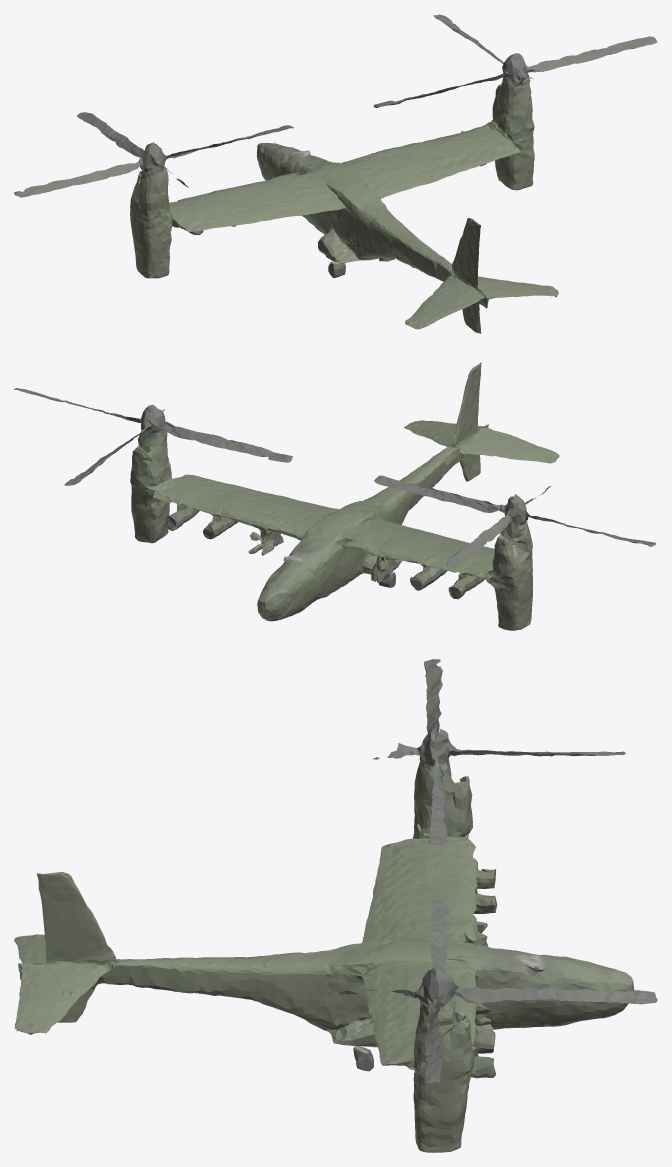
3 views of the same model, one above another, from view 1: azimuth 30°, elevation 25°; view 2: azimuth 150°, elevation 25°; view 3: azimuth 270°, elevation 25° (orthographic). The views are drawn at different scales.
Visible parts, largest first — view 1: defaultobject; view 2: defaultobject; view 3: defaultobject.
Part boxes in pixels (x1=…): defaultobject: x1=14, y1=14, x2=657, y2=333; defaultobject: x1=14, y1=362, x2=655, y2=630; defaultobject: x1=14, y1=659, x2=657, y2=1152.
Bounding box in the file's own units: 0.9462 × 0.2138 × 0.6064.
